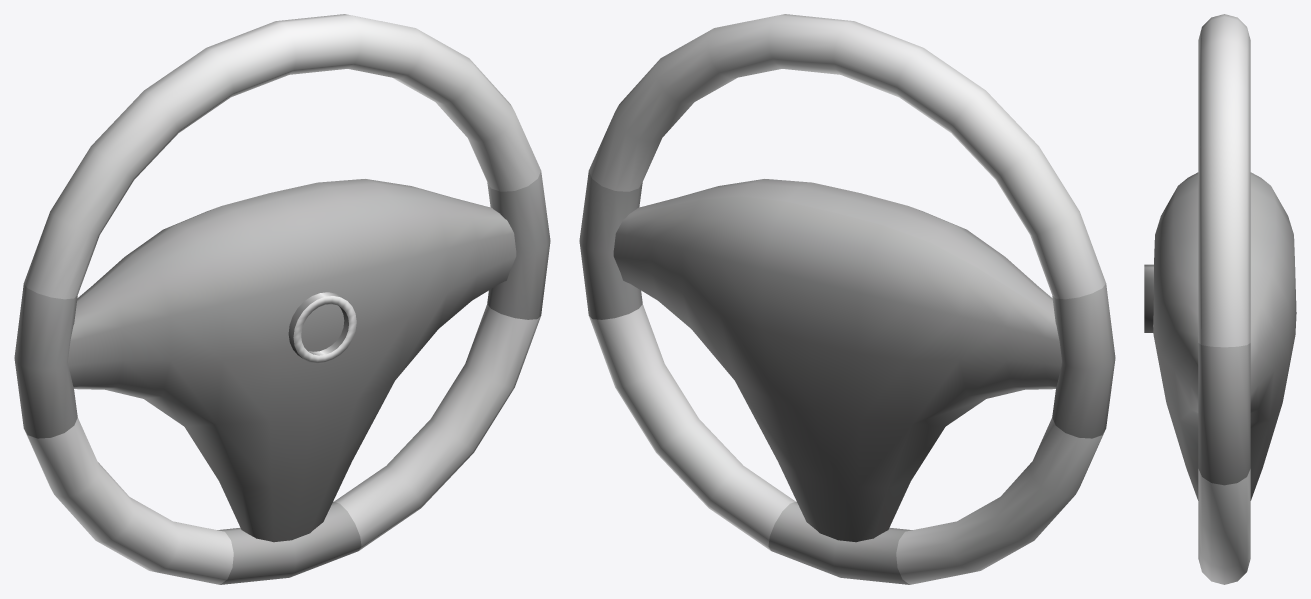
The model's file is steering_wheel.gltf.
3 renders of one model, left to right at view 1: azimuth 30°, elevation 25°; view 2: azimuth 150°, elevation 25°; view 3: azimuth 270°, elevation 25°, orthographic. The views are drawn at different scales.
Visible parts, largest first — view 1: steering_wheel_chebran, steering_wheel_base, steering_wheel_logo; view 2: steering_wheel_chebran, steering_wheel_base; view 3: steering_wheel_base, steering_wheel_chebran, steering_wheel_logo.
Boxes of the visible parts, box(x1,y1,x2,y2) form: steering_wheel_chebran: box(68, 179, 516, 542); steering_wheel_base: box(14, 14, 550, 584); steering_wheel_logo: box(288, 292, 356, 363); steering_wheel_chebran: box(613, 179, 1061, 542); steering_wheel_base: box(579, 14, 1115, 584); steering_wheel_base: box(1198, 14, 1250, 584); steering_wheel_chebran: box(1153, 172, 1296, 500); steering_wheel_logo: box(1144, 264, 1153, 332).
Size of the model in its own units: 0.66 by 0.66 by 0.175.
Materials: 1 (1 with a texture image).
